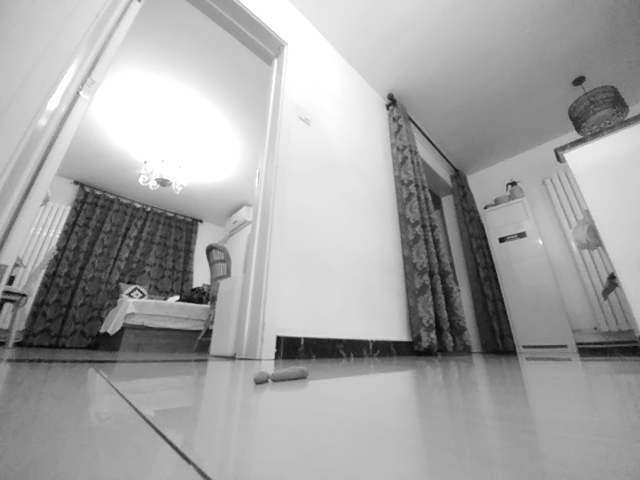curtain: (388, 93, 473, 356), (12, 181, 128, 351), (450, 169, 518, 355)
pet feces: (253, 366, 312, 385)
